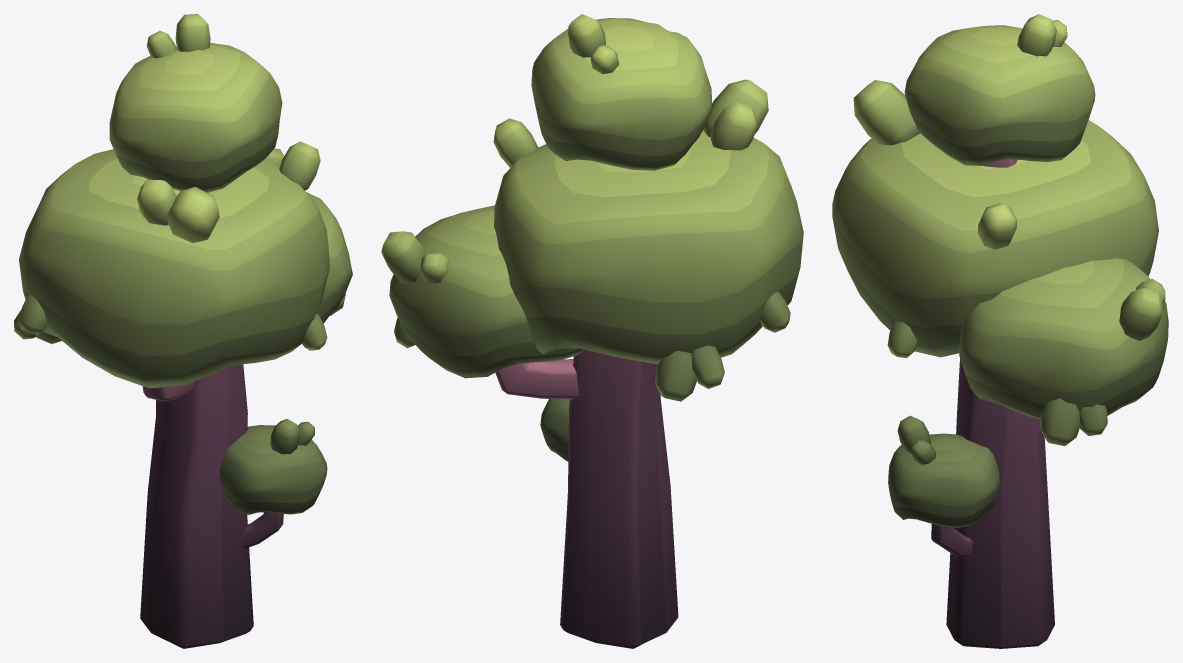
File: grassland_tree_col1_3.fbx
3 views of the same model, side by side, from view 1: azimuth 30°, elevation 25°; view 2: azimuth 150°, elevation 25°; view 3: azimuth 270°, elevation 25° (orthographic). The views are drawn at different scales.
Visible parts, largest first — view 1: grassland_tree_col1_3; view 2: grassland_tree_col1_3; view 3: grassland_tree_col1_3.
Boxes of the visible parts, left/top/right/bottom form: grassland_tree_col1_3: left=14, top=14, right=352, bottom=648; grassland_tree_col1_3: left=381, top=14, right=803, bottom=648; grassland_tree_col1_3: left=832, top=14, right=1168, bottom=648.
Size of the model in its own units: 651 by 1081 by 531.
